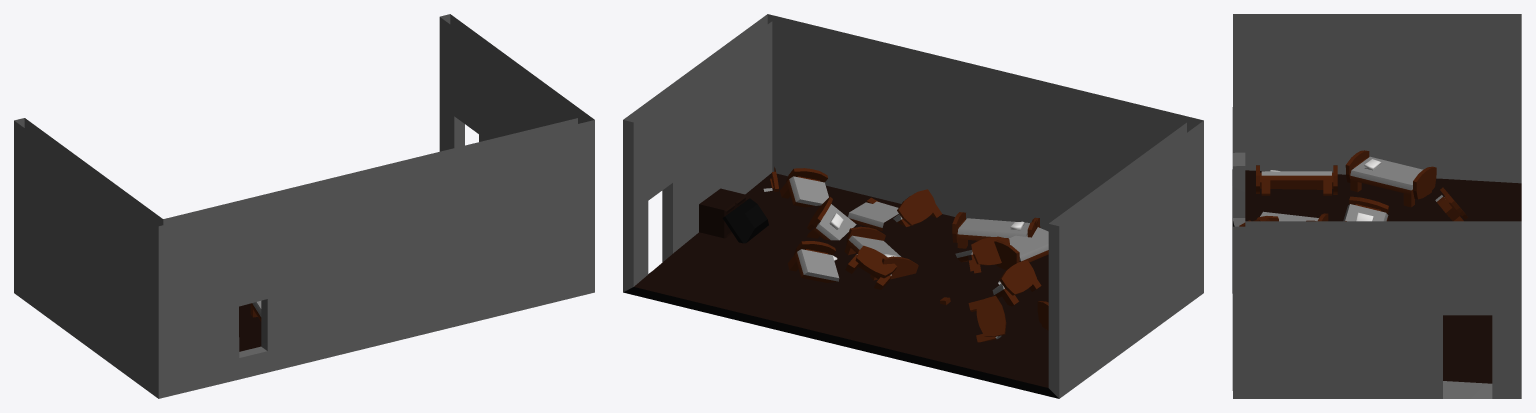
The model's file is hospital3_1.FBX.
The picture shows the model from 3 angles, left to right: view 1: azimuth 30°, elevation 25°; view 2: azimuth 150°, elevation 25°; view 3: azimuth 270°, elevation 25°; orthographic projection.
Parts seen in each view (by area): view 1: Box008; view 2: Box008; view 3: Box008.
Part boxes in pixels (x1=…): Box008: x1=14, y1=14, x2=594, y2=398; Box008: x1=623, y1=14, x2=1203, y2=398; Box008: x1=1232, y1=14, x2=1521, y2=398.
Size of the model in its own units: 1258 by 476 by 724.
